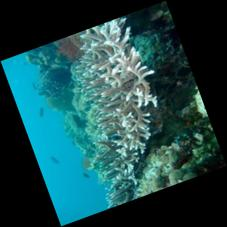bleached_corals: (44, 9, 175, 211)
